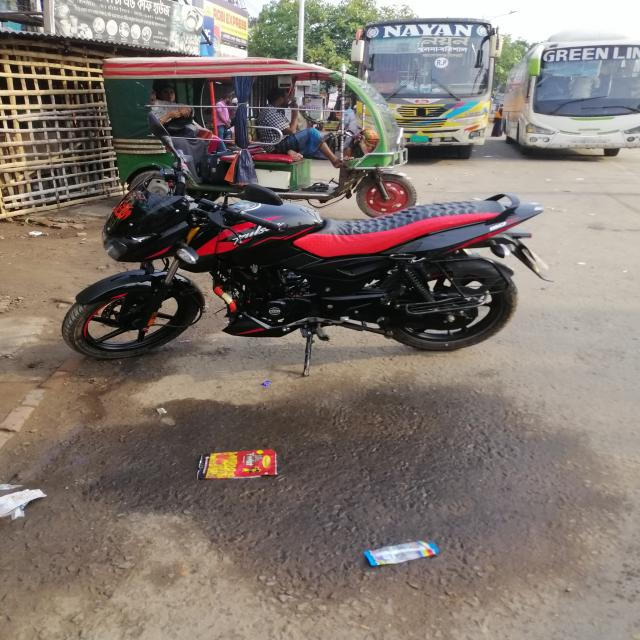Motorbike: (57, 170, 558, 379)
